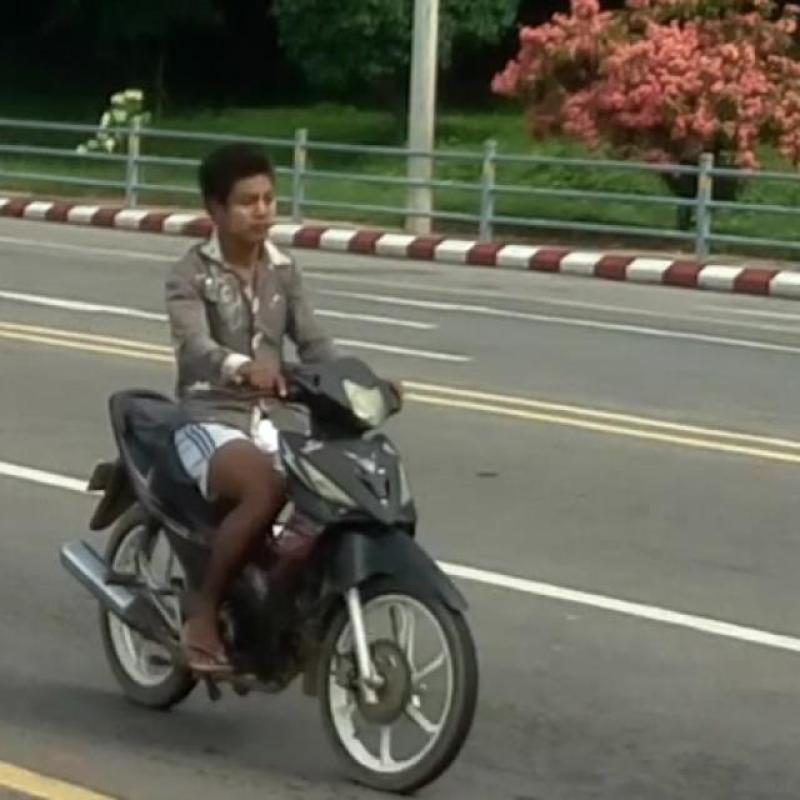nohelmet: (187, 104, 333, 300)
